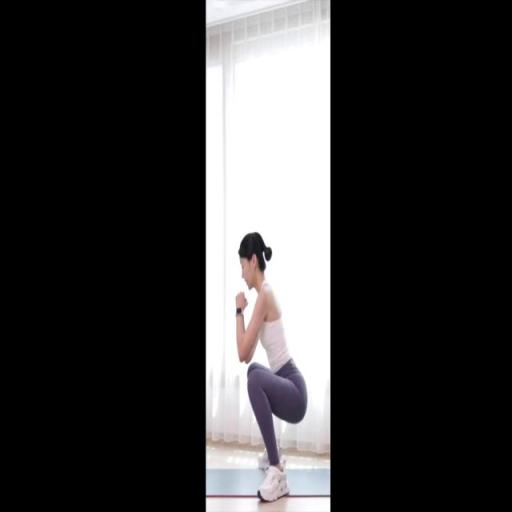Normal_BrenchPress: (234, 232, 309, 504)
